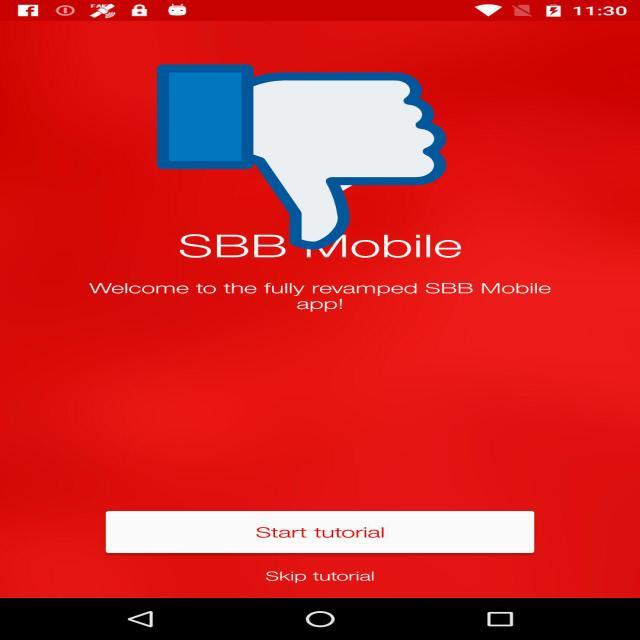obstruction: (157, 60, 446, 254)
